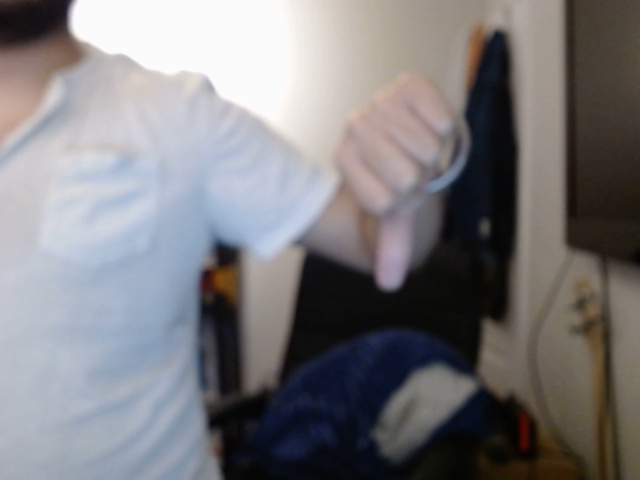Thumbs down: (337, 63, 475, 300)
